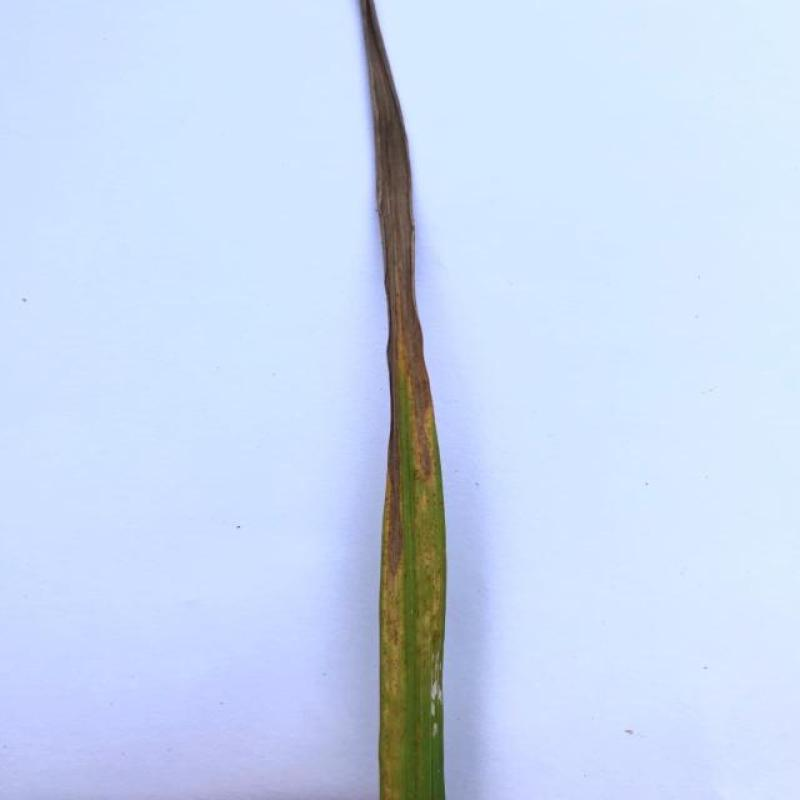Rice Tungro: (372, 154, 442, 685)
